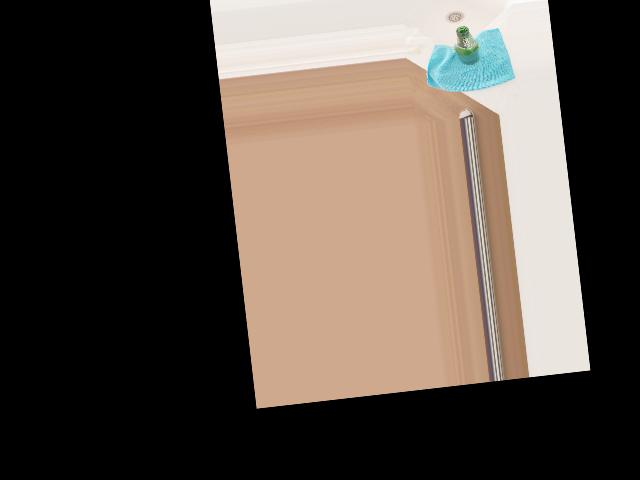beer: (451, 25, 480, 67)
